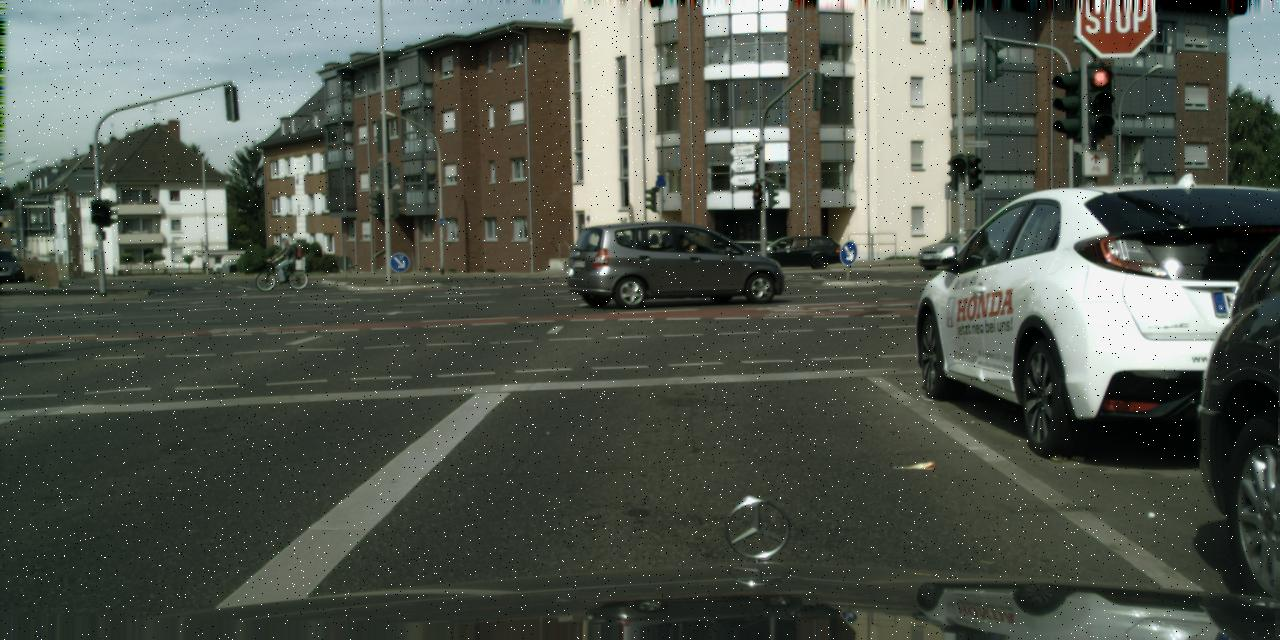ped: (275, 237, 293, 281)
